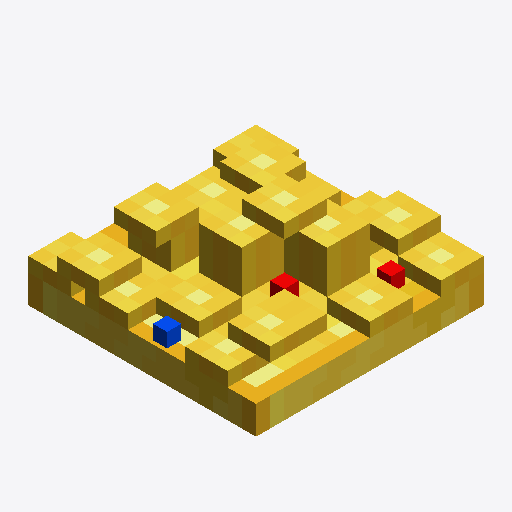
Isometric view (azimuth 45°, elevation 35.3°) of a Minecraft model made of 32 cuboids, textured from the same repository.
Parts seen in each view (by area): element 32, element 13, element 27, element 28, element 14, element 9, element 31, element 12, element 30, element 29, element 10, element 24 (+16 smaller).
Part boxes in pixels (x1,y1,x2,y2): element 32: (28,190,483,435); element 13: (327,273,412,337); element 27: (242,174,326,239); element 28: (114,182,198,247); element 14: (228,297,312,362); element 9: (57,231,141,296); element 31: (398,232,483,296); element 12: (156,273,241,337); element 30: (356,190,440,255); element 29: (220,137,305,193); element 10: (185,322,269,386); element 24: (285,199,369,263).
Size of the model in its own units: 16 by 6 by 16.